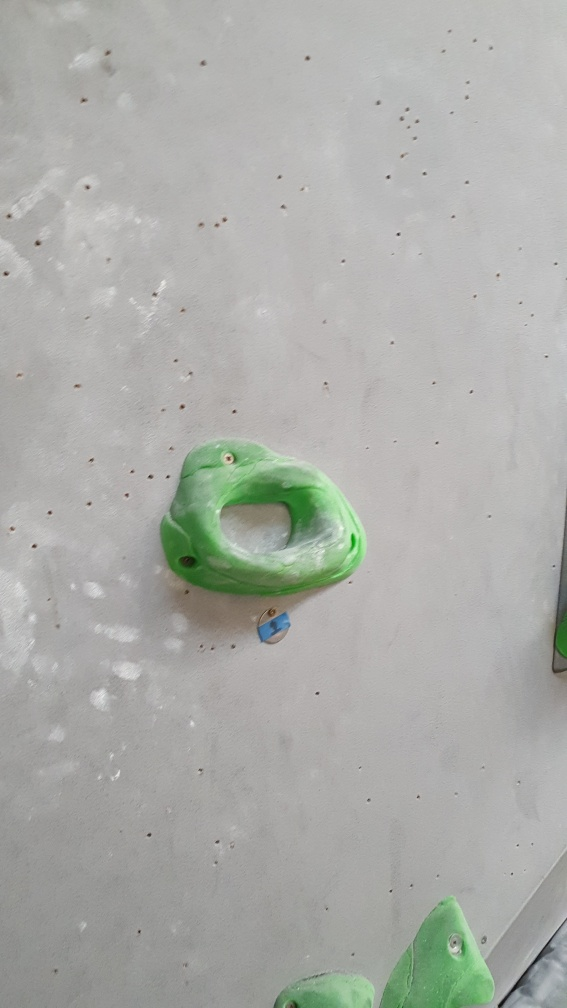Hand Start: (252, 602, 294, 644)
Pocket: (158, 434, 368, 594)
